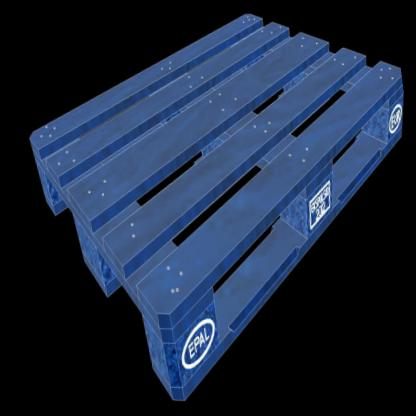BoxFace: (24, 5, 406, 407)
